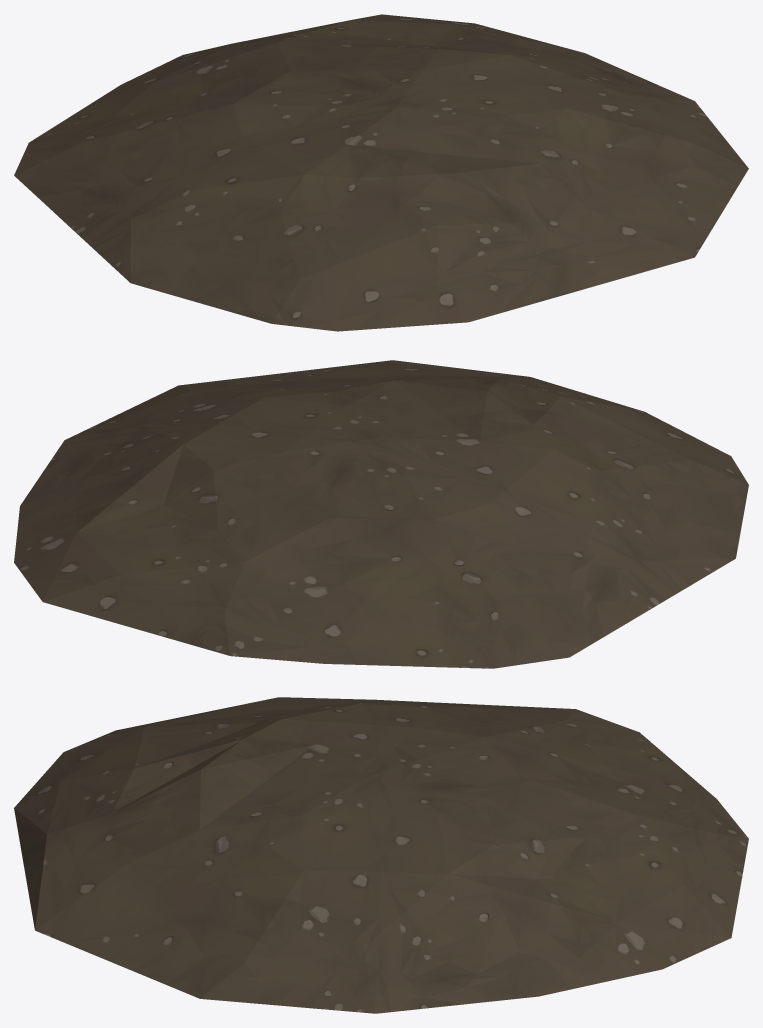
Rendered from synty-terrain-ground-mound-small-01.gltf.
The picture shows the model from 3 angles, top to bottom: view 1: azimuth 30°, elevation 25°; view 2: azimuth 150°, elevation 25°; view 3: azimuth 270°, elevation 25°; orthographic projection. The views are drawn at different scales.
Parts seen in each view (by area): view 1: SM_Terrain_Ground_Mound_Small_01; view 2: SM_Terrain_Ground_Mound_Small_01; view 3: SM_Terrain_Ground_Mound_Small_01.
Boxes of the visible parts, bbox=[...] form: SM_Terrain_Ground_Mound_Small_01: bbox=[14, 14, 748, 331]; SM_Terrain_Ground_Mound_Small_01: bbox=[14, 360, 748, 668]; SM_Terrain_Ground_Mound_Small_01: bbox=[14, 697, 748, 1013].
Size of the model in its own units: 1.7 by 0.1933 by 1.66.
1 material, 1 textured.
